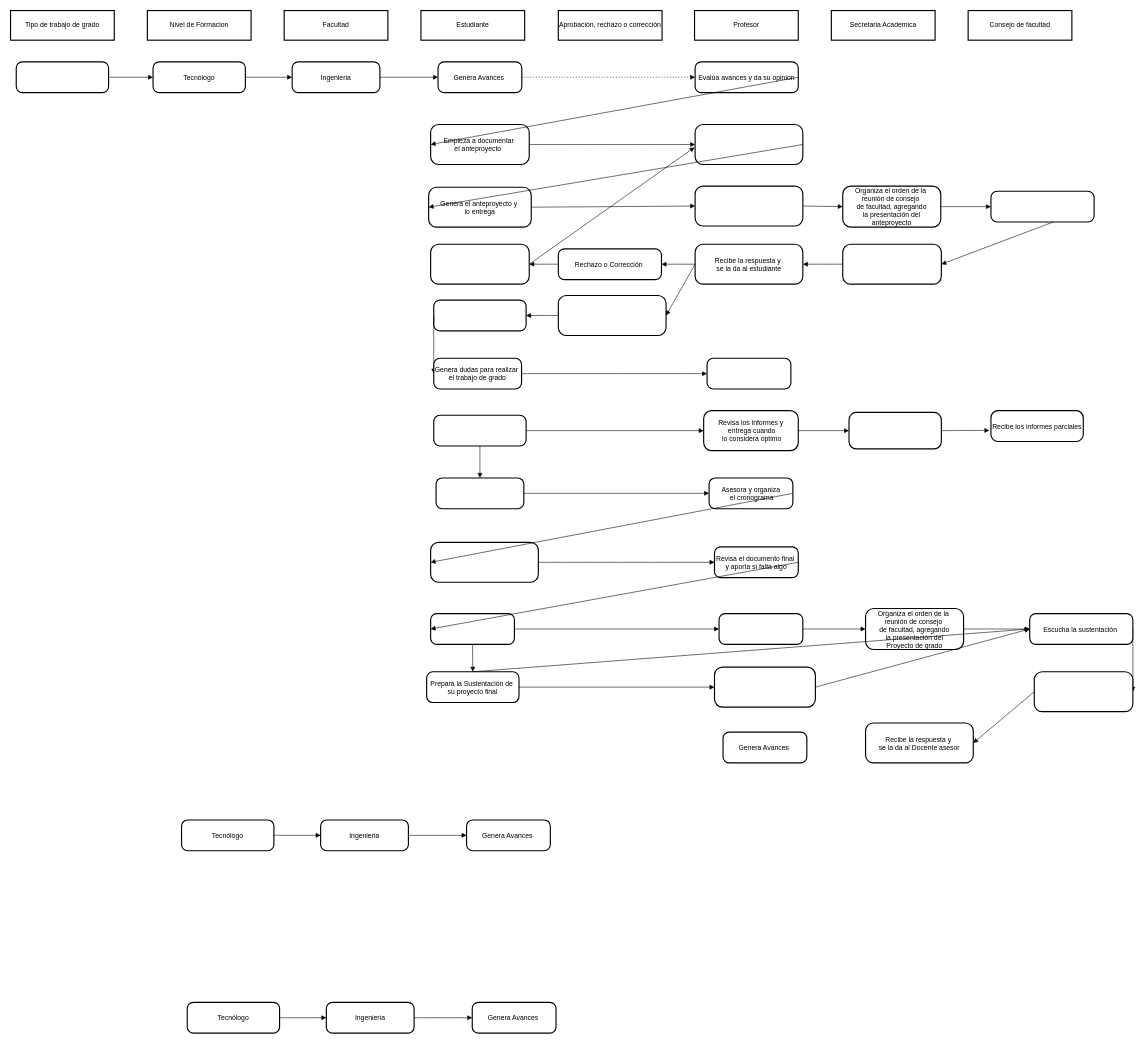
Image size: 1145x1043. Some labels were removed from this diagram. Each missing label, with the centre of its shape:
"Aprobación" belongs at (611,315).
"Asesora para su sustentación y acompaña en esta" belongs at (765,686).
"Corregir el anteproyecto" belongs at (480,263).
"Corrige el documento y lo entrega" belongs at (472,629).
"Da la guía del trabajo" belongs at (748,373).
"Da la respuesta del consejo de facultad" belongs at (892,263).
"Empieza a elaborar el documento final" belongs at (479,493).
"Empieza a generar los informes" belongs at (479,430).
"Empieza la Formación de trabajo de grado" belongs at (479,315).
"Evalúa el anteproyecto y ayuda a guiarlo" belongs at (748,144).
"Evalúa el anteproyecto, lo revisa y da su aprobación o Corrección" belongs at (1042,206).
"Evalúa la sustentación y el documento final" belongs at (1083,691).
"Proyecto de grado" belongs at (62,77).
"Recibe y presenta los informes al consejo de facultad" belongs at (895,430).
"Revisa el anteproyecto y lo presenta a la secretaria academica" belongs at (748,205).
"Revisa y procede a entregarlo" belongs at (760,629).
"Sigue la guía del profesor y empieza a elaborar el Documento final" belongs at (484,562).
